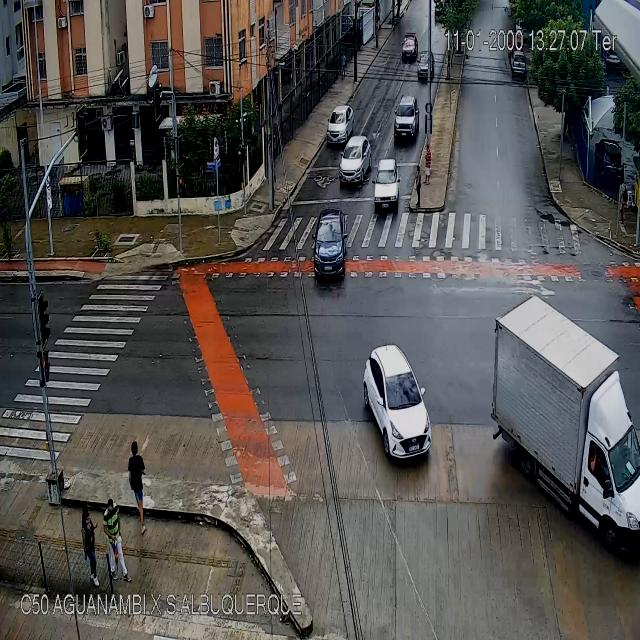Car: (364, 344, 430, 460), (313, 210, 347, 276), (339, 134, 372, 182), (372, 160, 400, 212), (394, 95, 420, 142), (327, 105, 353, 144), (401, 33, 418, 61), (417, 50, 433, 76), (512, 53, 526, 74)
Truck: (491, 295, 640, 553)
